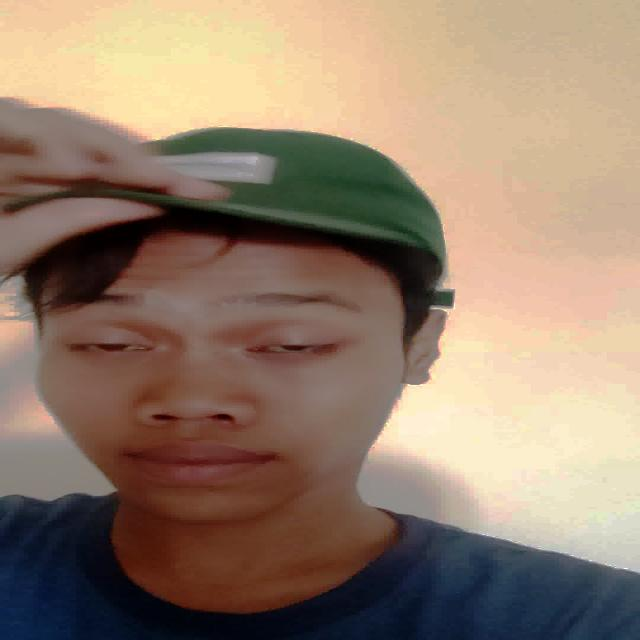TOPI: (0, 99, 497, 277)
